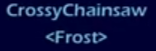<: (45, 31, 55, 41)
>: (98, 31, 108, 42)
C: (62, 2, 74, 16), (6, 3, 18, 16)
F: (56, 29, 64, 43)
a: (86, 5, 96, 16), (121, 5, 131, 16)
h: (75, 2, 85, 16)
i: (97, 2, 101, 16)
n: (101, 5, 112, 16)
o: (25, 5, 35, 16), (72, 33, 83, 43)
r: (18, 5, 25, 16), (66, 33, 72, 43)
s: (112, 5, 121, 16), (36, 5, 44, 16), (44, 5, 52, 16), (83, 32, 91, 43)
t: (91, 31, 98, 43)
w: (131, 5, 148, 16)
y: (52, 5, 62, 19)
